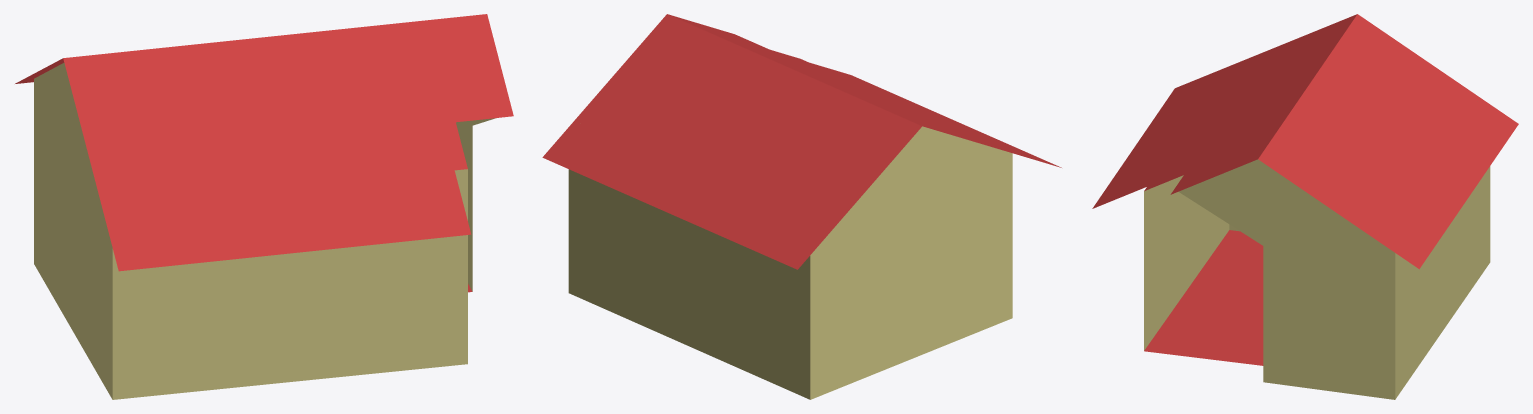
The picture shows the model from 3 angles, left to right: view 1: azimuth 30°, elevation 25°; view 2: azimuth 150°, elevation 25°; view 3: azimuth 270°, elevation 25°; orthographic projection. The views are drawn at different scales.
Bounding box in the file's own units: 19.7 × 18.97 × 11.15.
